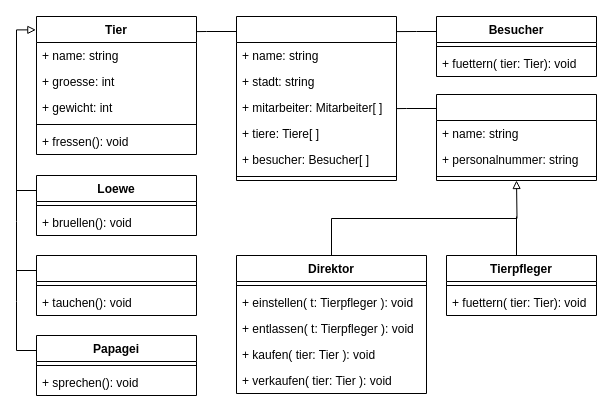
This 613x412 diagram has some shape labels left out. Each missing label, with the box of its shape:
Delfin: (36, 254, 196, 316)
Mitarbeiter: (436, 94, 596, 180)
Zoo: (236, 16, 396, 180)
